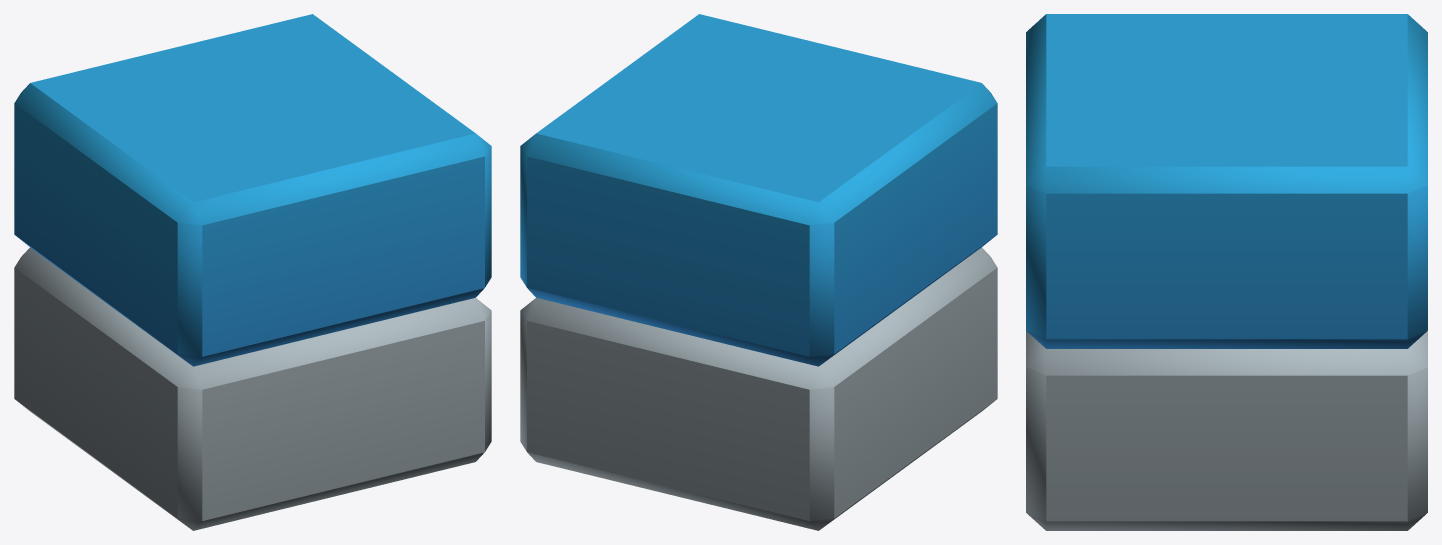
The model's file is platform-1x1x1-blue.glb.
The picture shows the model from 3 angles, left to right: view 1: azimuth 30°, elevation 25°; view 2: azimuth 150°, elevation 25°; view 3: azimuth 270°, elevation 25°; orthographic projection. The views are drawn at different scales.
Parts seen in each view (by area): view 1: platform_1x1x1_blue; view 2: platform_1x1x1_blue; view 3: platform_1x1x1_blue.
Part boxes in pixels (x1,y1,x2,y2): platform_1x1x1_blue: (14, 14, 491, 530); platform_1x1x1_blue: (520, 14, 997, 530); platform_1x1x1_blue: (1026, 14, 1427, 530).
Bounding box in the file's own units: 1 × 1 × 1.
Materials: 1 (1 with a texture image).
